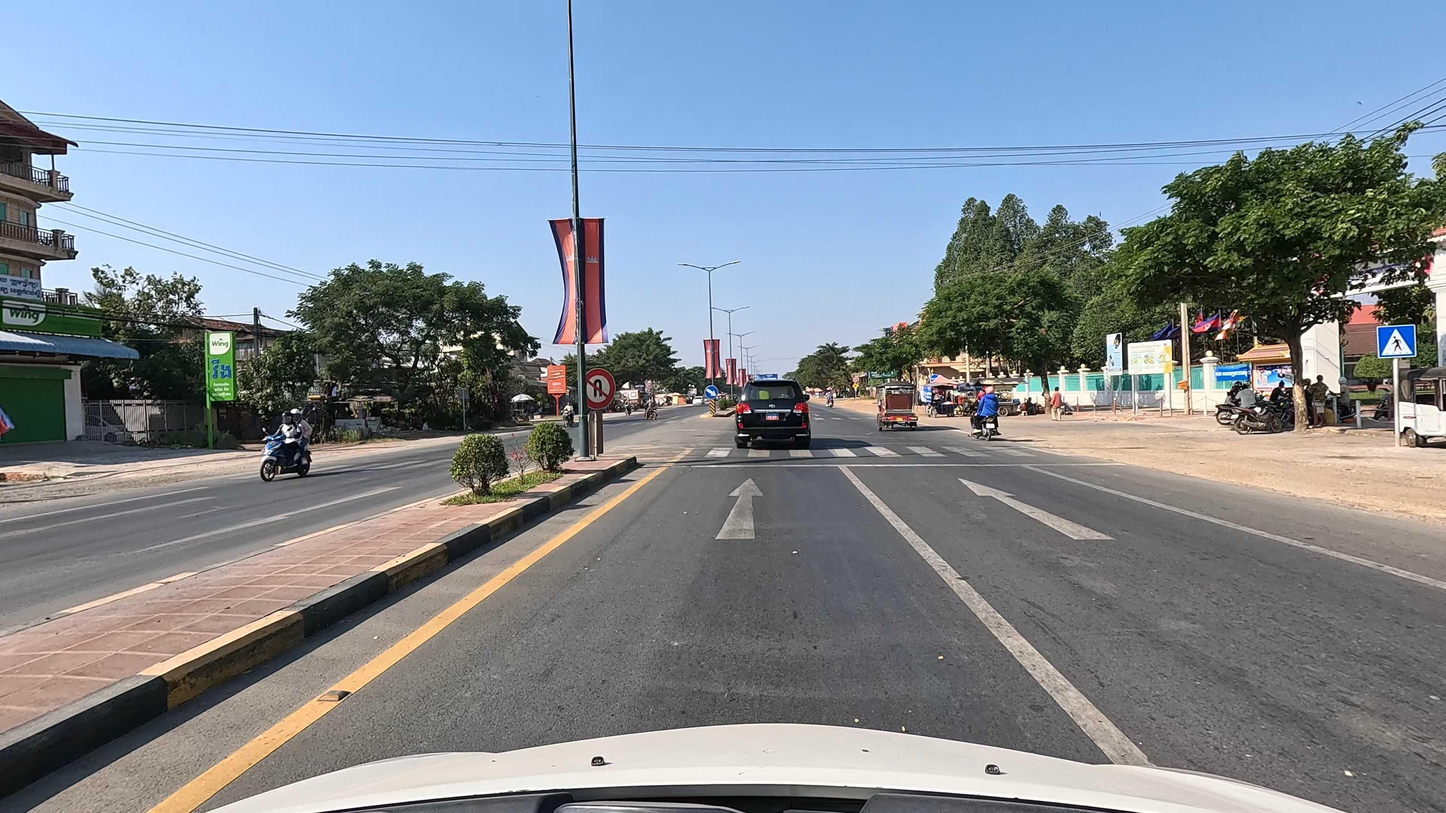keep_right: (704, 385, 719, 400)
no_u_turn: (584, 367, 616, 411)
pedestrian_crossing: (1377, 324, 1417, 359)
